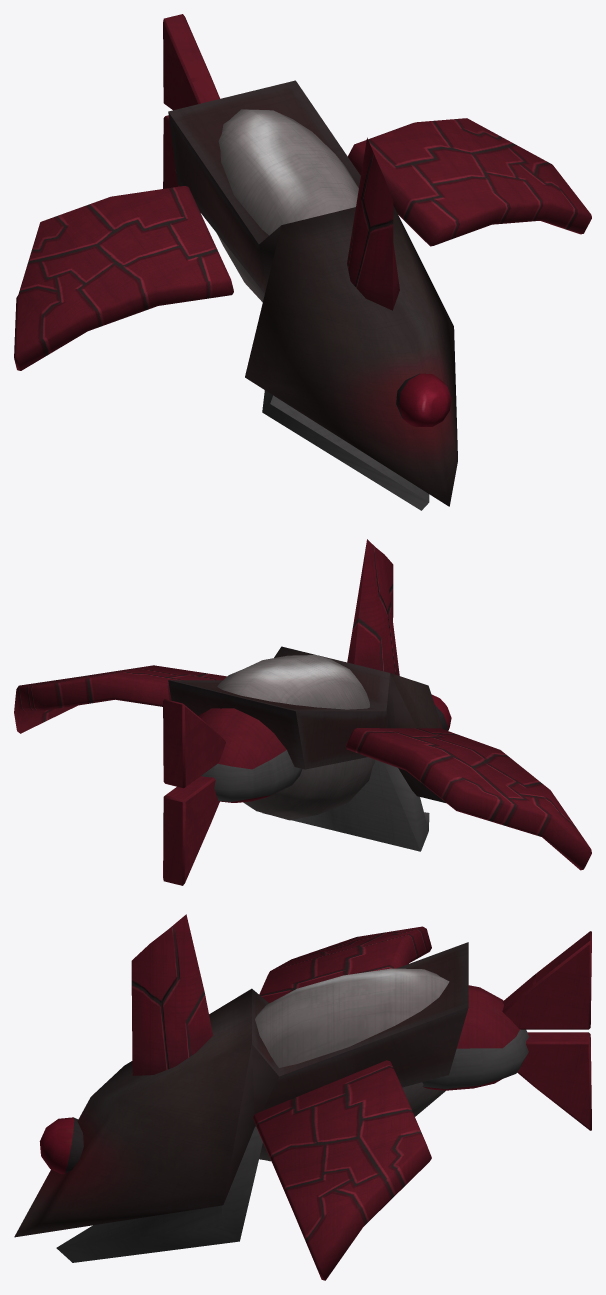
The model's file is Normal_enemy_3.fbx.
3 renders of one model, top to bottom at view 1: azimuth 30°, elevation 25°; view 2: azimuth 150°, elevation 25°; view 3: azimuth 270°, elevation 25°, orthographic. The views are drawn at different scales.
Visible parts, largest first — view 1: vin_1; view 2: vin_1; view 3: vin_1.
Part boxes in pixels (x1,y1,x2,y2): vin_1: (14, 14, 591, 510); vin_1: (14, 539, 591, 885); vin_1: (14, 914, 591, 1280).
Size of the model in its own units: 420 by 232 by 348.
1 material, 1 textured.
